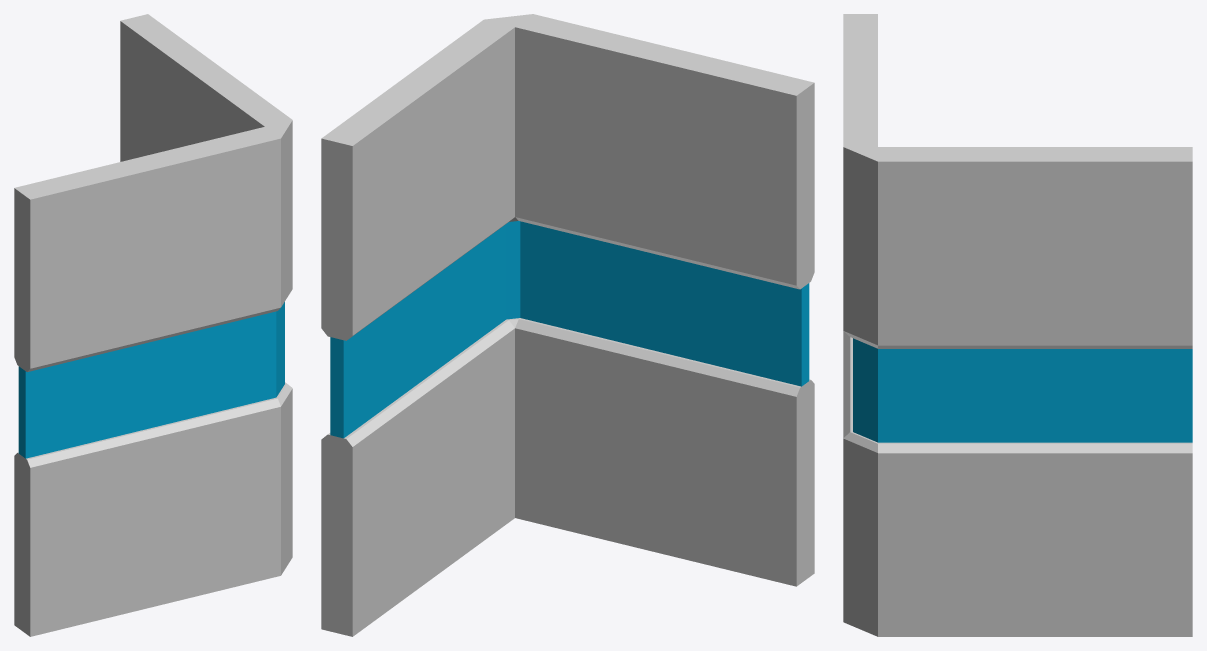
File: K2_wall_312.fbx
3 views of the same model, side by side, from view 1: azimuth 30°, elevation 25°; view 2: azimuth 150°, elevation 25°; view 3: azimuth 270°, elevation 25° (orthographic). The views are drawn at different scales.
Visible parts, largest first — view 1: group1_polySurface39; view 2: group1_polySurface39; view 3: group1_polySurface39.
Part boxes in pixels (x1=…): group1_polySurface39: x1=14, y1=14, x2=292, y2=636; group1_polySurface39: x1=321, y1=14, x2=814, y2=636; group1_polySurface39: x1=843, y1=14, x2=1192, y2=636.
Bounding box in the file's own units: 20 × 30 × 20.
